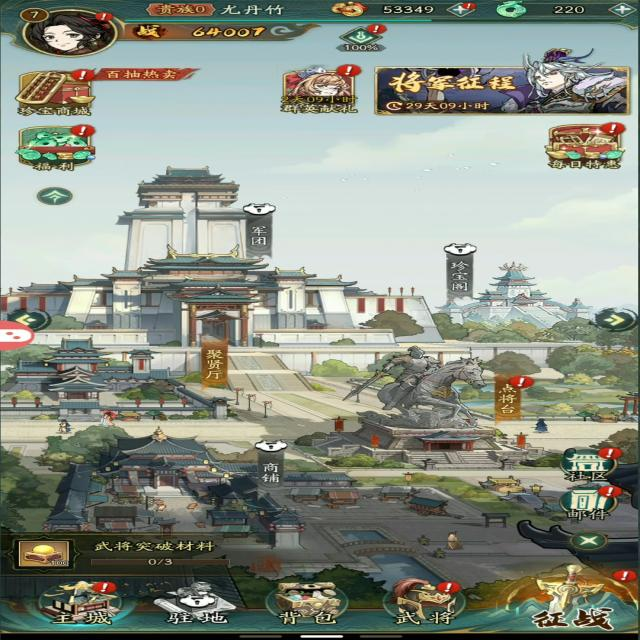hint-reddot: (68, 68, 104, 84), (431, 581, 465, 597), (593, 483, 627, 499), (88, 581, 120, 597), (68, 124, 99, 140), (609, 567, 640, 583), (332, 63, 363, 79), (511, 373, 538, 390), (595, 445, 622, 462), (86, 10, 118, 23), (601, 120, 628, 135), (365, 24, 391, 36), (462, 2, 478, 13)
navigation-DailyDiscount: (534, 120, 627, 174)
navigation-bag: (256, 576, 354, 626)
navigation-community: (551, 444, 625, 482)
navigation-dianjiangtai: (323, 343, 536, 457)
navigation-fight: (491, 559, 640, 631)
navigation-hero: (375, 573, 479, 628)
navigation-juntuan-off: (111, 166, 299, 313)
navigation-juxianting: (11, 338, 235, 417)
navigation-mail: (552, 485, 624, 522)
navigation-main: (17, 576, 138, 628)
navigation-role: (18, 2, 128, 59)
navigation-shop-off: (33, 428, 310, 530)
navigation-station-off: (143, 576, 243, 628)
navigation-station-on: (143, 576, 243, 628)
navigation-treasureMall: (11, 68, 97, 118)
navigation-welfare: (13, 126, 98, 174)
navigation-zhenbaoge-off: (435, 236, 601, 336)
operation-TaskCollection: (4, 533, 236, 573)
operation-Vip: (142, 0, 227, 16)
operation-close: (30, 185, 76, 210), (566, 531, 610, 552)
operation-enter: (568, 305, 632, 336), (7, 303, 57, 334)
operation-jiangjunzhengcheng: (372, 63, 629, 117)
operation-qunyingxianli: (274, 62, 362, 117)
operation-resourceDownload: (336, 26, 395, 50)
